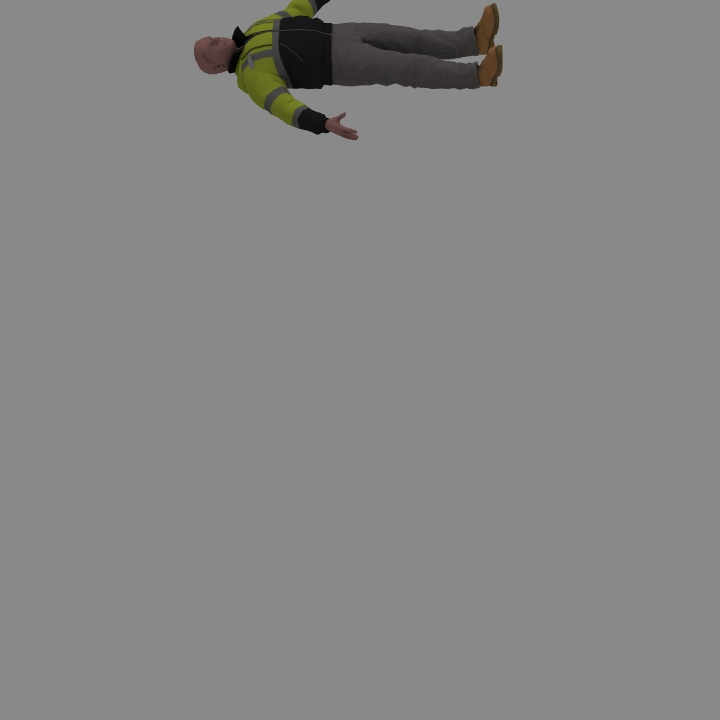victim: (198, 1, 503, 143)
